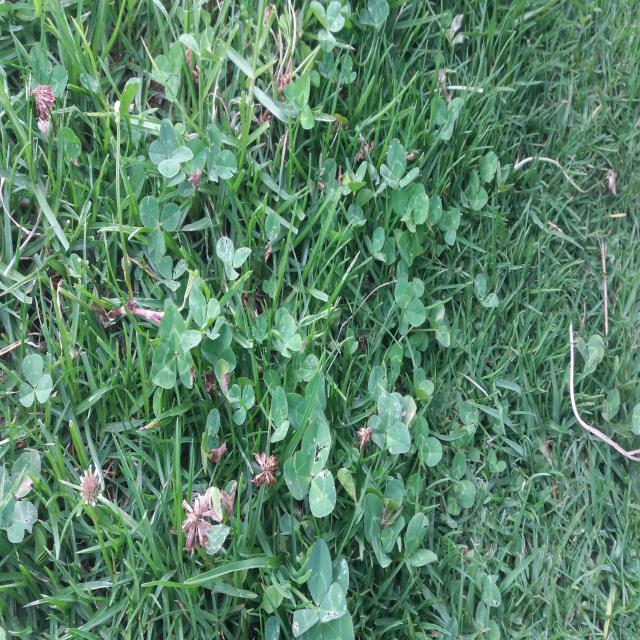Four Leaf Clover: (271, 314, 301, 358)
